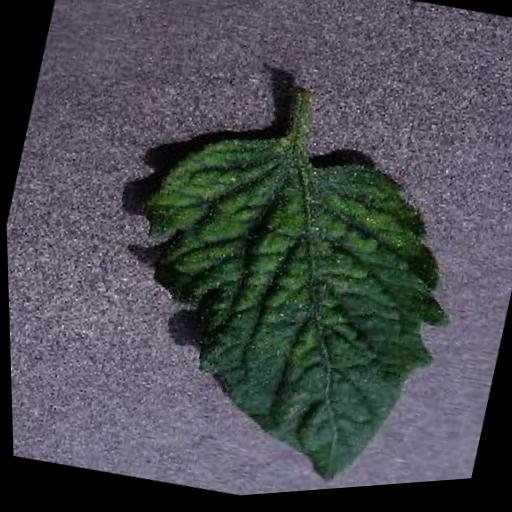Mosaic Virus: (76, 100, 486, 508)
